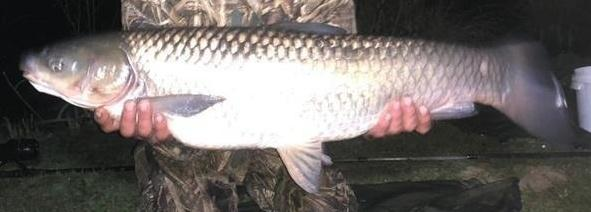Grass Carp: (23, 26, 573, 190)
